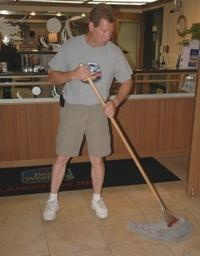person without safety: (39, 1, 136, 222)
